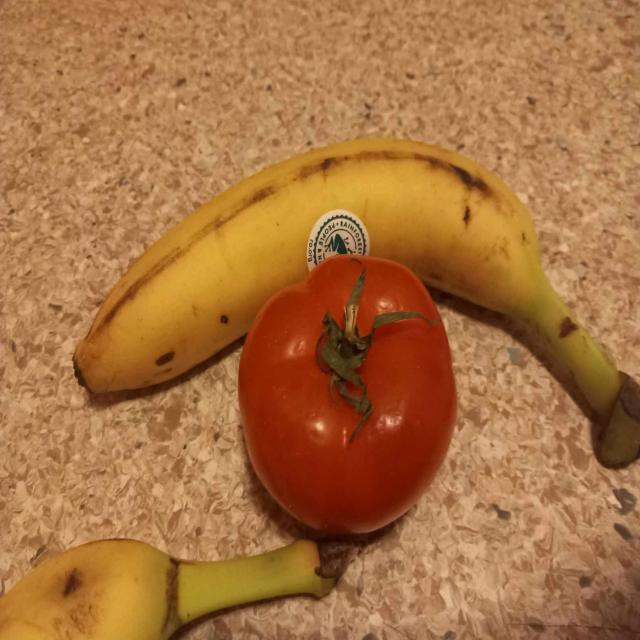banana: (74, 138, 640, 467), (0, 540, 336, 638)
tomato: (239, 255, 456, 533)
